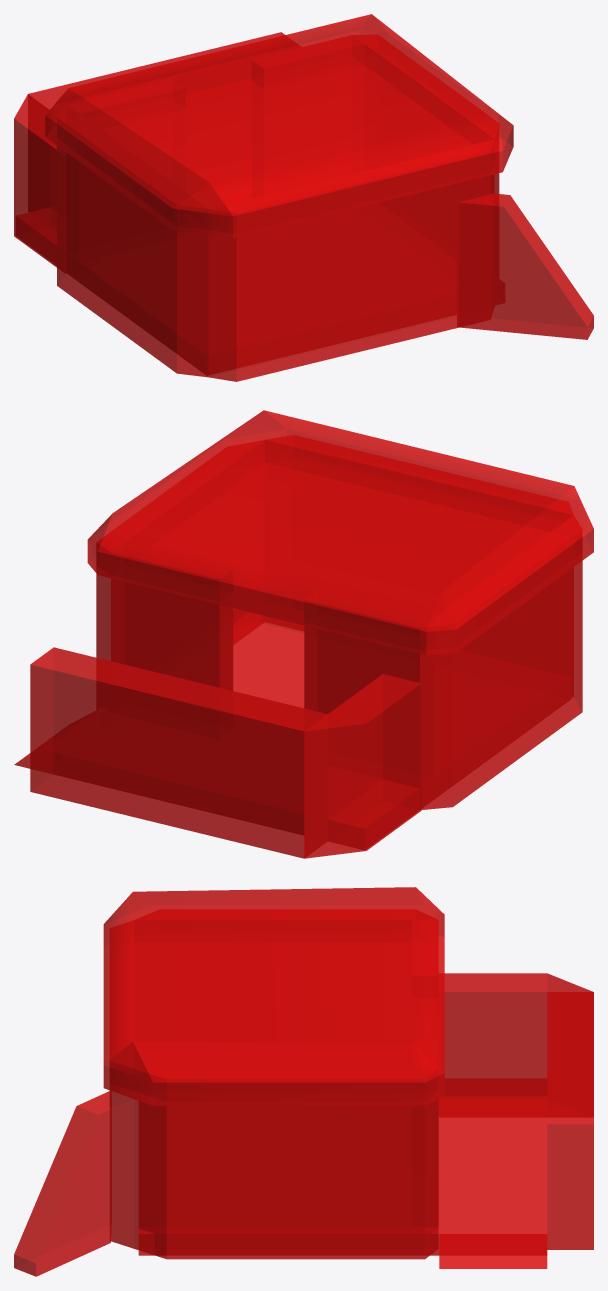
The model's file is SM_Bld_Bunker_01_Collision.fbx.
3 renders of one model, top to bottom at view 1: azimuth 30°, elevation 25°; view 2: azimuth 150°, elevation 25°; view 3: azimuth 270°, elevation 25°, orthographic. The views are drawn at different scales.
Parts seen in each view (by area): view 1: SM_Bld_Bunker_01_Collision; view 2: SM_Bld_Bunker_01_Collision; view 3: SM_Bld_Bunker_01_Collision.
Part boxes in pixels (x1,y1,x2,y2): SM_Bld_Bunker_01_Collision: [14, 14, 593, 381]; SM_Bld_Bunker_01_Collision: [14, 410, 593, 858]; SM_Bld_Bunker_01_Collision: [14, 887, 593, 1276].
Size of the model in its own units: 595 by 302 by 763.
